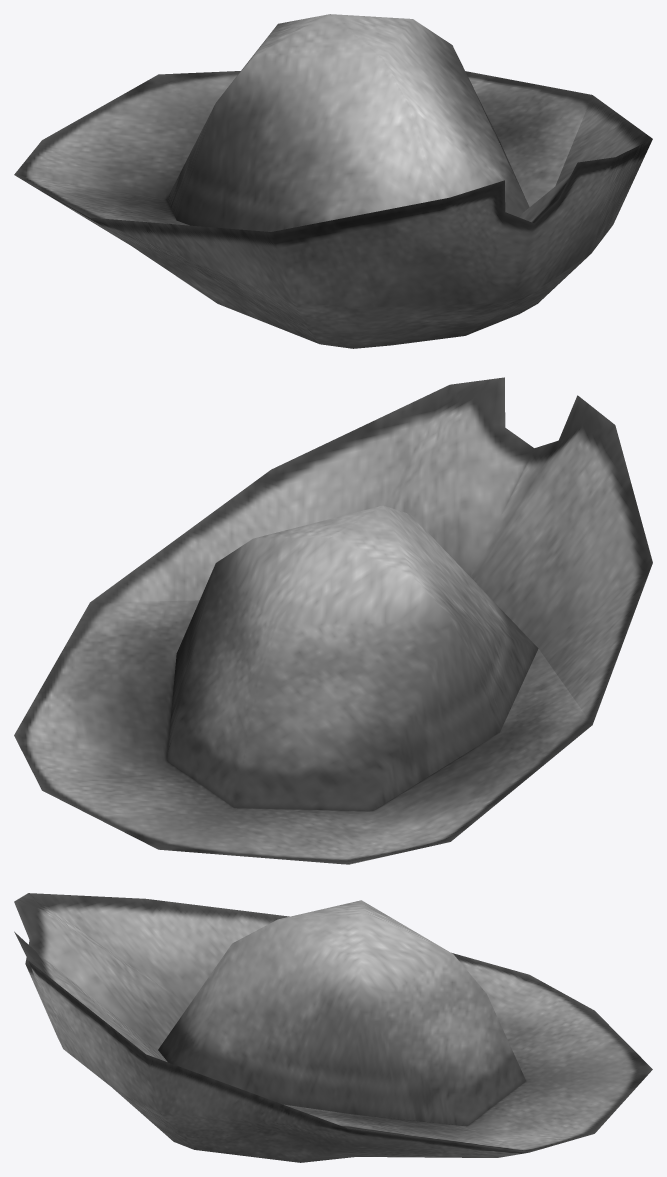
The model's file is shop_tailor_hat_navyHat.fbx.
3 renders of one model, top to bottom at view 1: azimuth 30°, elevation 25°; view 2: azimuth 150°, elevation 25°; view 3: azimuth 270°, elevation 25°, orthographic. The views are drawn at different scales.
Parts seen in each view (by area): view 1: lod_high; view 2: lod_high; view 3: lod_high.
Boxes of the visible parts, x1,y1,x2,y2 form: lod_high: (14, 14, 652, 348); lod_high: (14, 377, 652, 864); lod_high: (14, 893, 652, 1162).
Size of the model in its own units: 90.42 by 40.37 by 119.
Materials: 1 (1 with a texture image).
